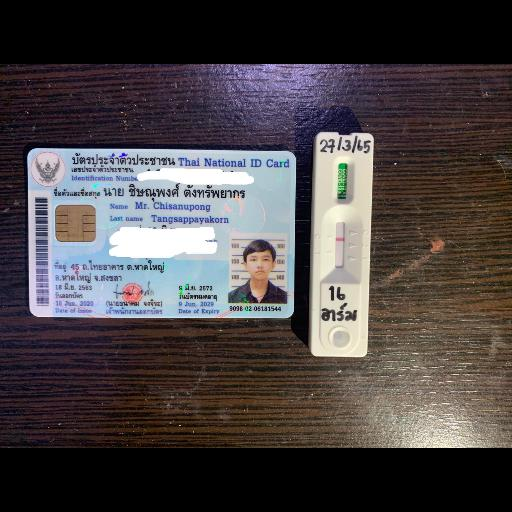Neg: (312, 132, 372, 356)
